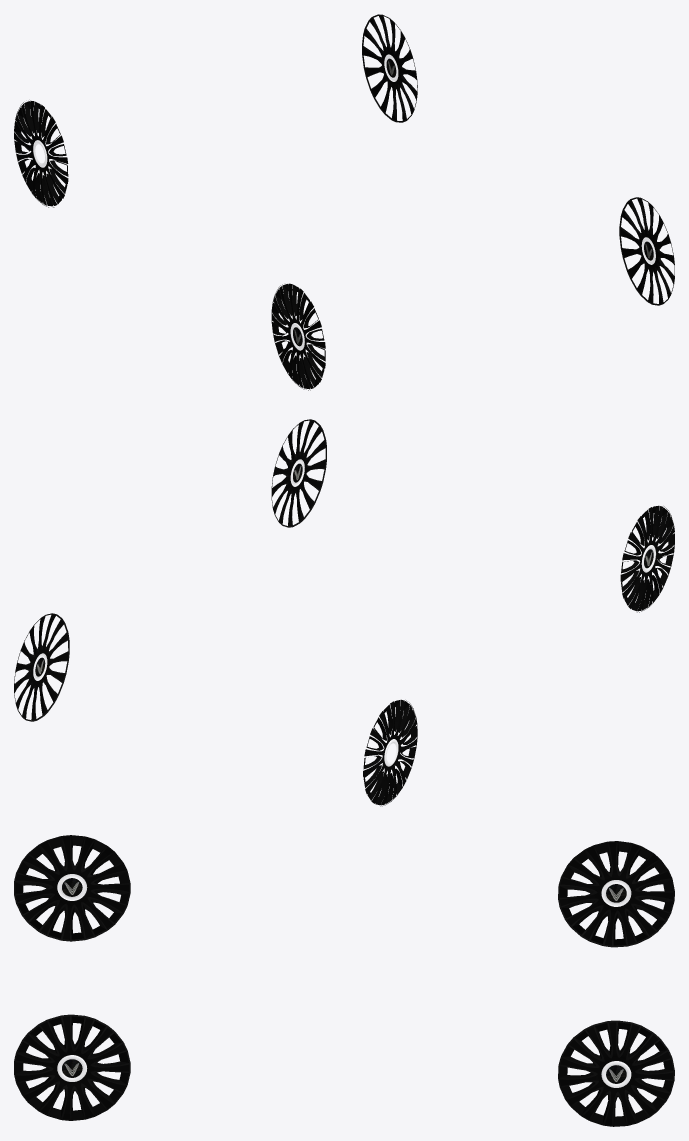
3 renders of one model, top to bottom at view 1: azimuth 30°, elevation 25°; view 2: azimuth 150°, elevation 25°; view 3: azimuth 270°, elevation 25°, orthographic. The views are drawn at different scales.
Visible parts, largest first — view 1: 4; view 2: 4; view 3: 4.
Boxes of the visible parts, bbox=[...] form: 4: bbox=[14, 14, 674, 390]; 4: bbox=[14, 419, 674, 806]; 4: bbox=[14, 835, 674, 1126].
Size of the model in its own units: 0.9953 by 0.2853 by 1.53.
4 materials, 1 textured.
